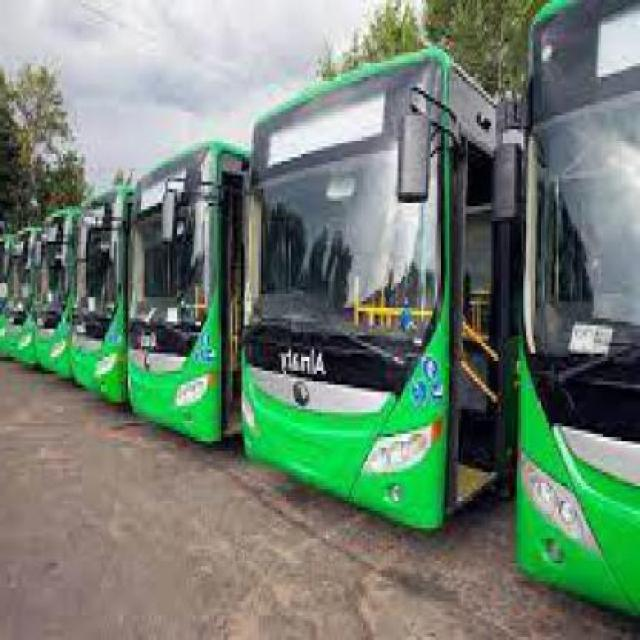bus: (241, 47, 500, 534), (129, 136, 232, 448)
